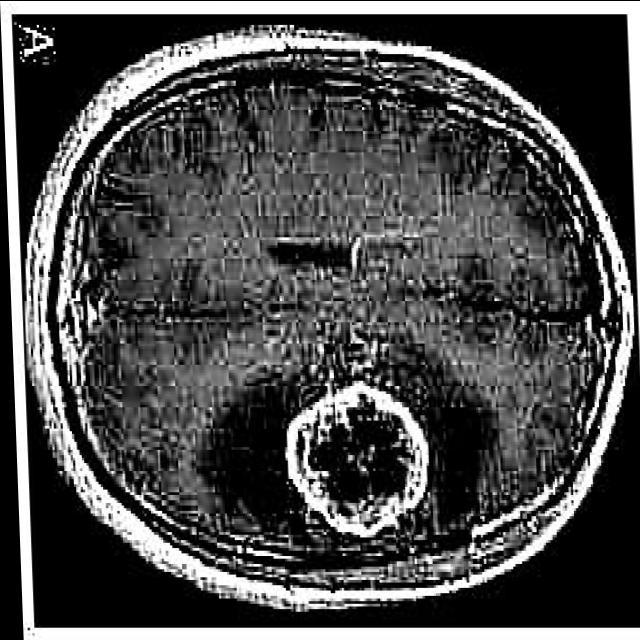Tumor: (279, 385, 425, 534)
